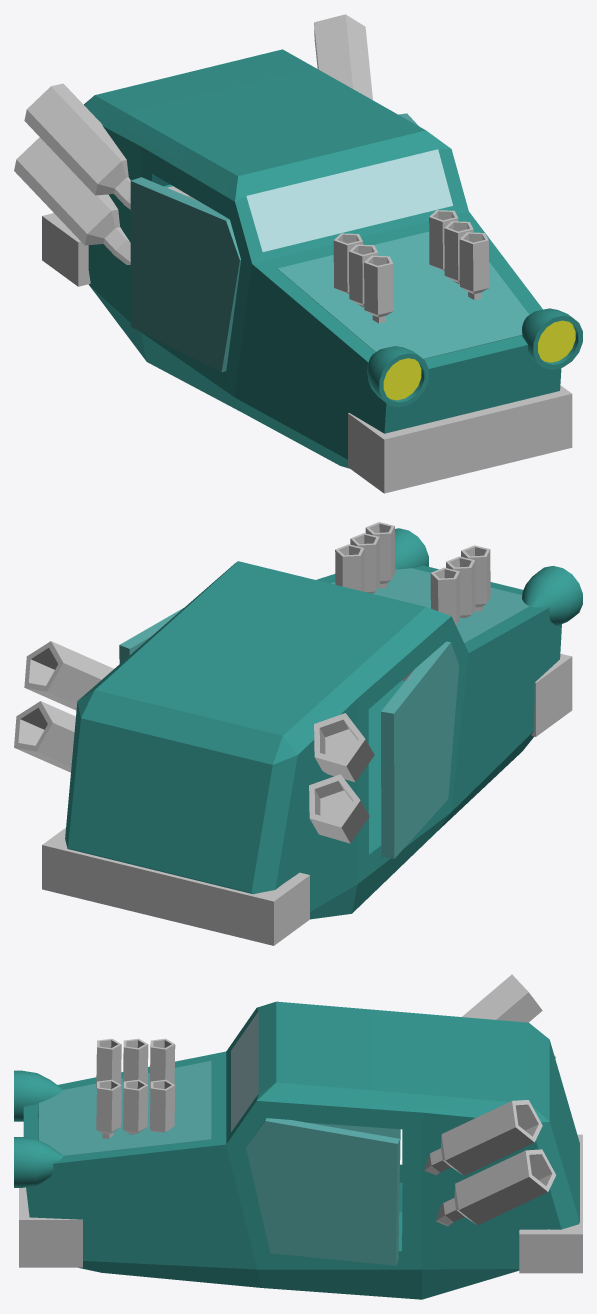
The model's file is Car2_FullBody.fbx.
3 renders of one model, top to bottom at view 1: azimuth 30°, elevation 25°; view 2: azimuth 150°, elevation 25°; view 3: azimuth 270°, elevation 25°, orthographic. The views are drawn at different scales.
Visible parts, largest first — view 1: Car2_chassis, Car2_door_right, Car2_backpipes, Car2_hood, Car2_bumpers_front, Car2_windshield, Car2_hood_pipes, Car2_lamps_right, Car2_lamps_left, Car2_bumpers_back; view 2: Car2_chassis, Car2_bumpers_back, Car2_backpipes, Car2_door_right, Car2_hood_pipes, Car2_hood, Car2_lamps_right, Car2_bumpers_front, Car2_lamps_left, Car2_door_left; view 3: Car2_chassis, Car2_door_left, Car2_backpipes, Car2_hood, Car2_hood_pipes, Car2_bumpers_front, Car2_bumpers_back, Car2_windshield, Car2_lamps_left, Car2_lamps_right, Car2_door_right.
Part boxes in pixels (box(x1,y1,x2,y2)): Car2_chassis: box(84, 49, 561, 468); Car2_door_right: box(130, 177, 240, 372); Car2_backpipes: box(14, 14, 372, 264); Car2_hood: box(277, 231, 529, 359); Car2_bumpers_front: box(348, 385, 572, 493); Car2_windshield: box(246, 149, 452, 251); Car2_hood_pipes: box(333, 210, 489, 323); Car2_lamps_right: box(367, 346, 428, 407); Car2_lamps_left: box(522, 308, 582, 369); Car2_bumpers_back: box(42, 186, 196, 286); Car2_chassis: box(65, 561, 561, 919); Car2_bumpers_back: box(42, 828, 309, 945); Car2_backpipes: box(14, 641, 374, 843); Car2_door_right: box(381, 641, 459, 858); Car2_hood_pipes: box(335, 522, 490, 625); Car2_hood: box(331, 568, 529, 643); Car2_lamps_right: box(522, 566, 582, 625); Car2_bumpers_front: box(402, 653, 572, 736); Car2_lamps_left: box(395, 528, 428, 569); Car2_door_left: box(119, 607, 184, 663); Car2_chassis: box(23, 1001, 579, 1299); Car2_door_left: box(246, 1118, 400, 1265); Car2_backpipes: box(424, 974, 555, 1226); Car2_hood: box(39, 1061, 211, 1155); Car2_hood_pipes: box(96, 1038, 175, 1138); Car2_bumpers_front: box(19, 1187, 82, 1267); Car2_bumpers_back: box(519, 1134, 582, 1273); Car2_windshield: box(231, 1011, 258, 1131); Car2_lamps_left: box(14, 1137, 63, 1187); Car2_lamps_right: box(14, 1070, 63, 1121); Car2_door_right: box(308, 1122, 400, 1159).
Bounding box in the file's own units: 2.83 × 4.6 × 1.96.
